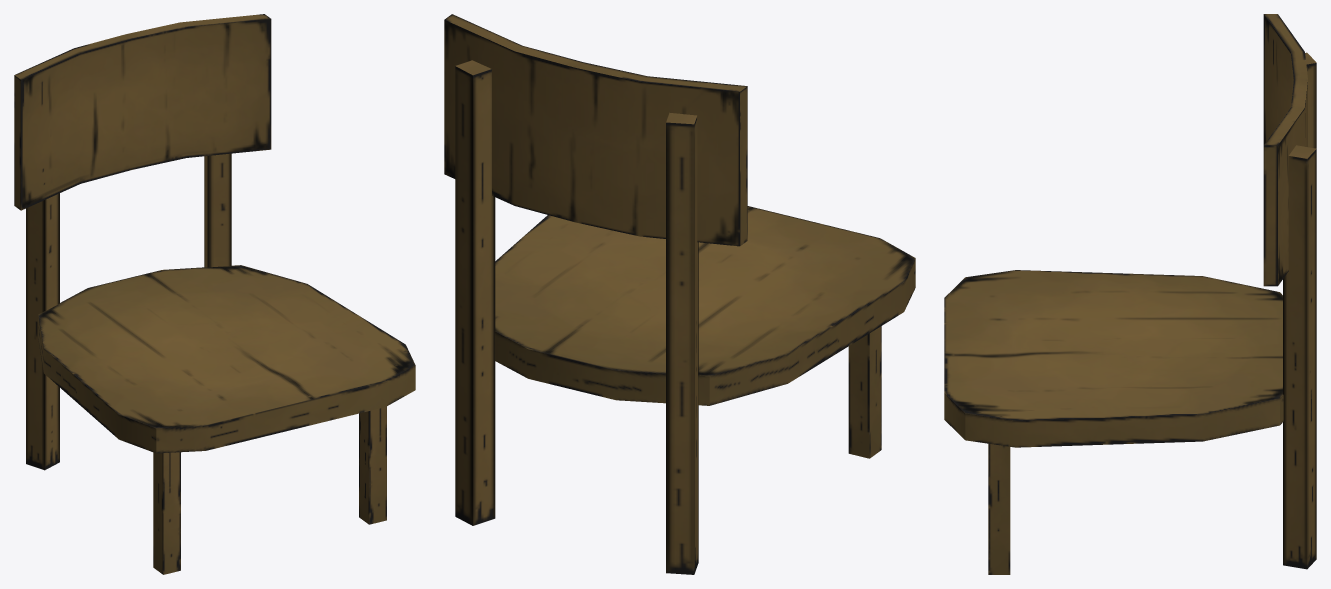
File: Chair_2.fbx
The picture shows the model from 3 angles, left to right: view 1: azimuth 30°, elevation 25°; view 2: azimuth 150°, elevation 25°; view 3: azimuth 270°, elevation 25°; orthographic projection. The views are drawn at different scales.
Visible parts, largest first — view 1: Chair_1; view 2: Chair_1; view 3: Chair_1.
Boxes of the visible parts, x1=… form: Chair_1: x1=14, y1=14, x2=415, y2=574; Chair_1: x1=444, y1=14, x2=915, y2=574; Chair_1: x1=944, y1=14, x2=1316, y2=574.
Bounding box in the file's own units: 65.22 × 87.98 × 68.16.
